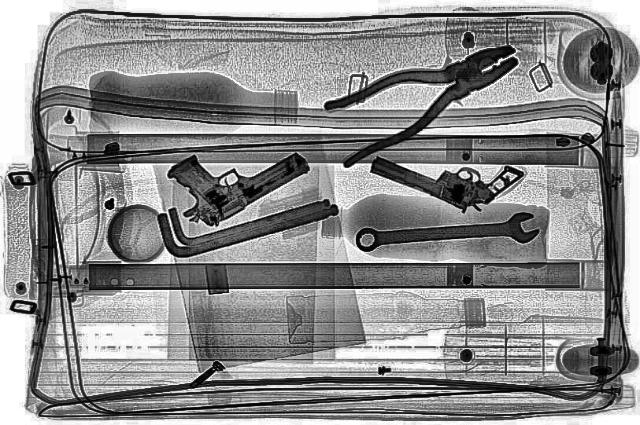Gun: (136, 120, 320, 232), (354, 123, 528, 219)
Pliers: (286, 27, 548, 169)
Wrench: (348, 211, 542, 255)
